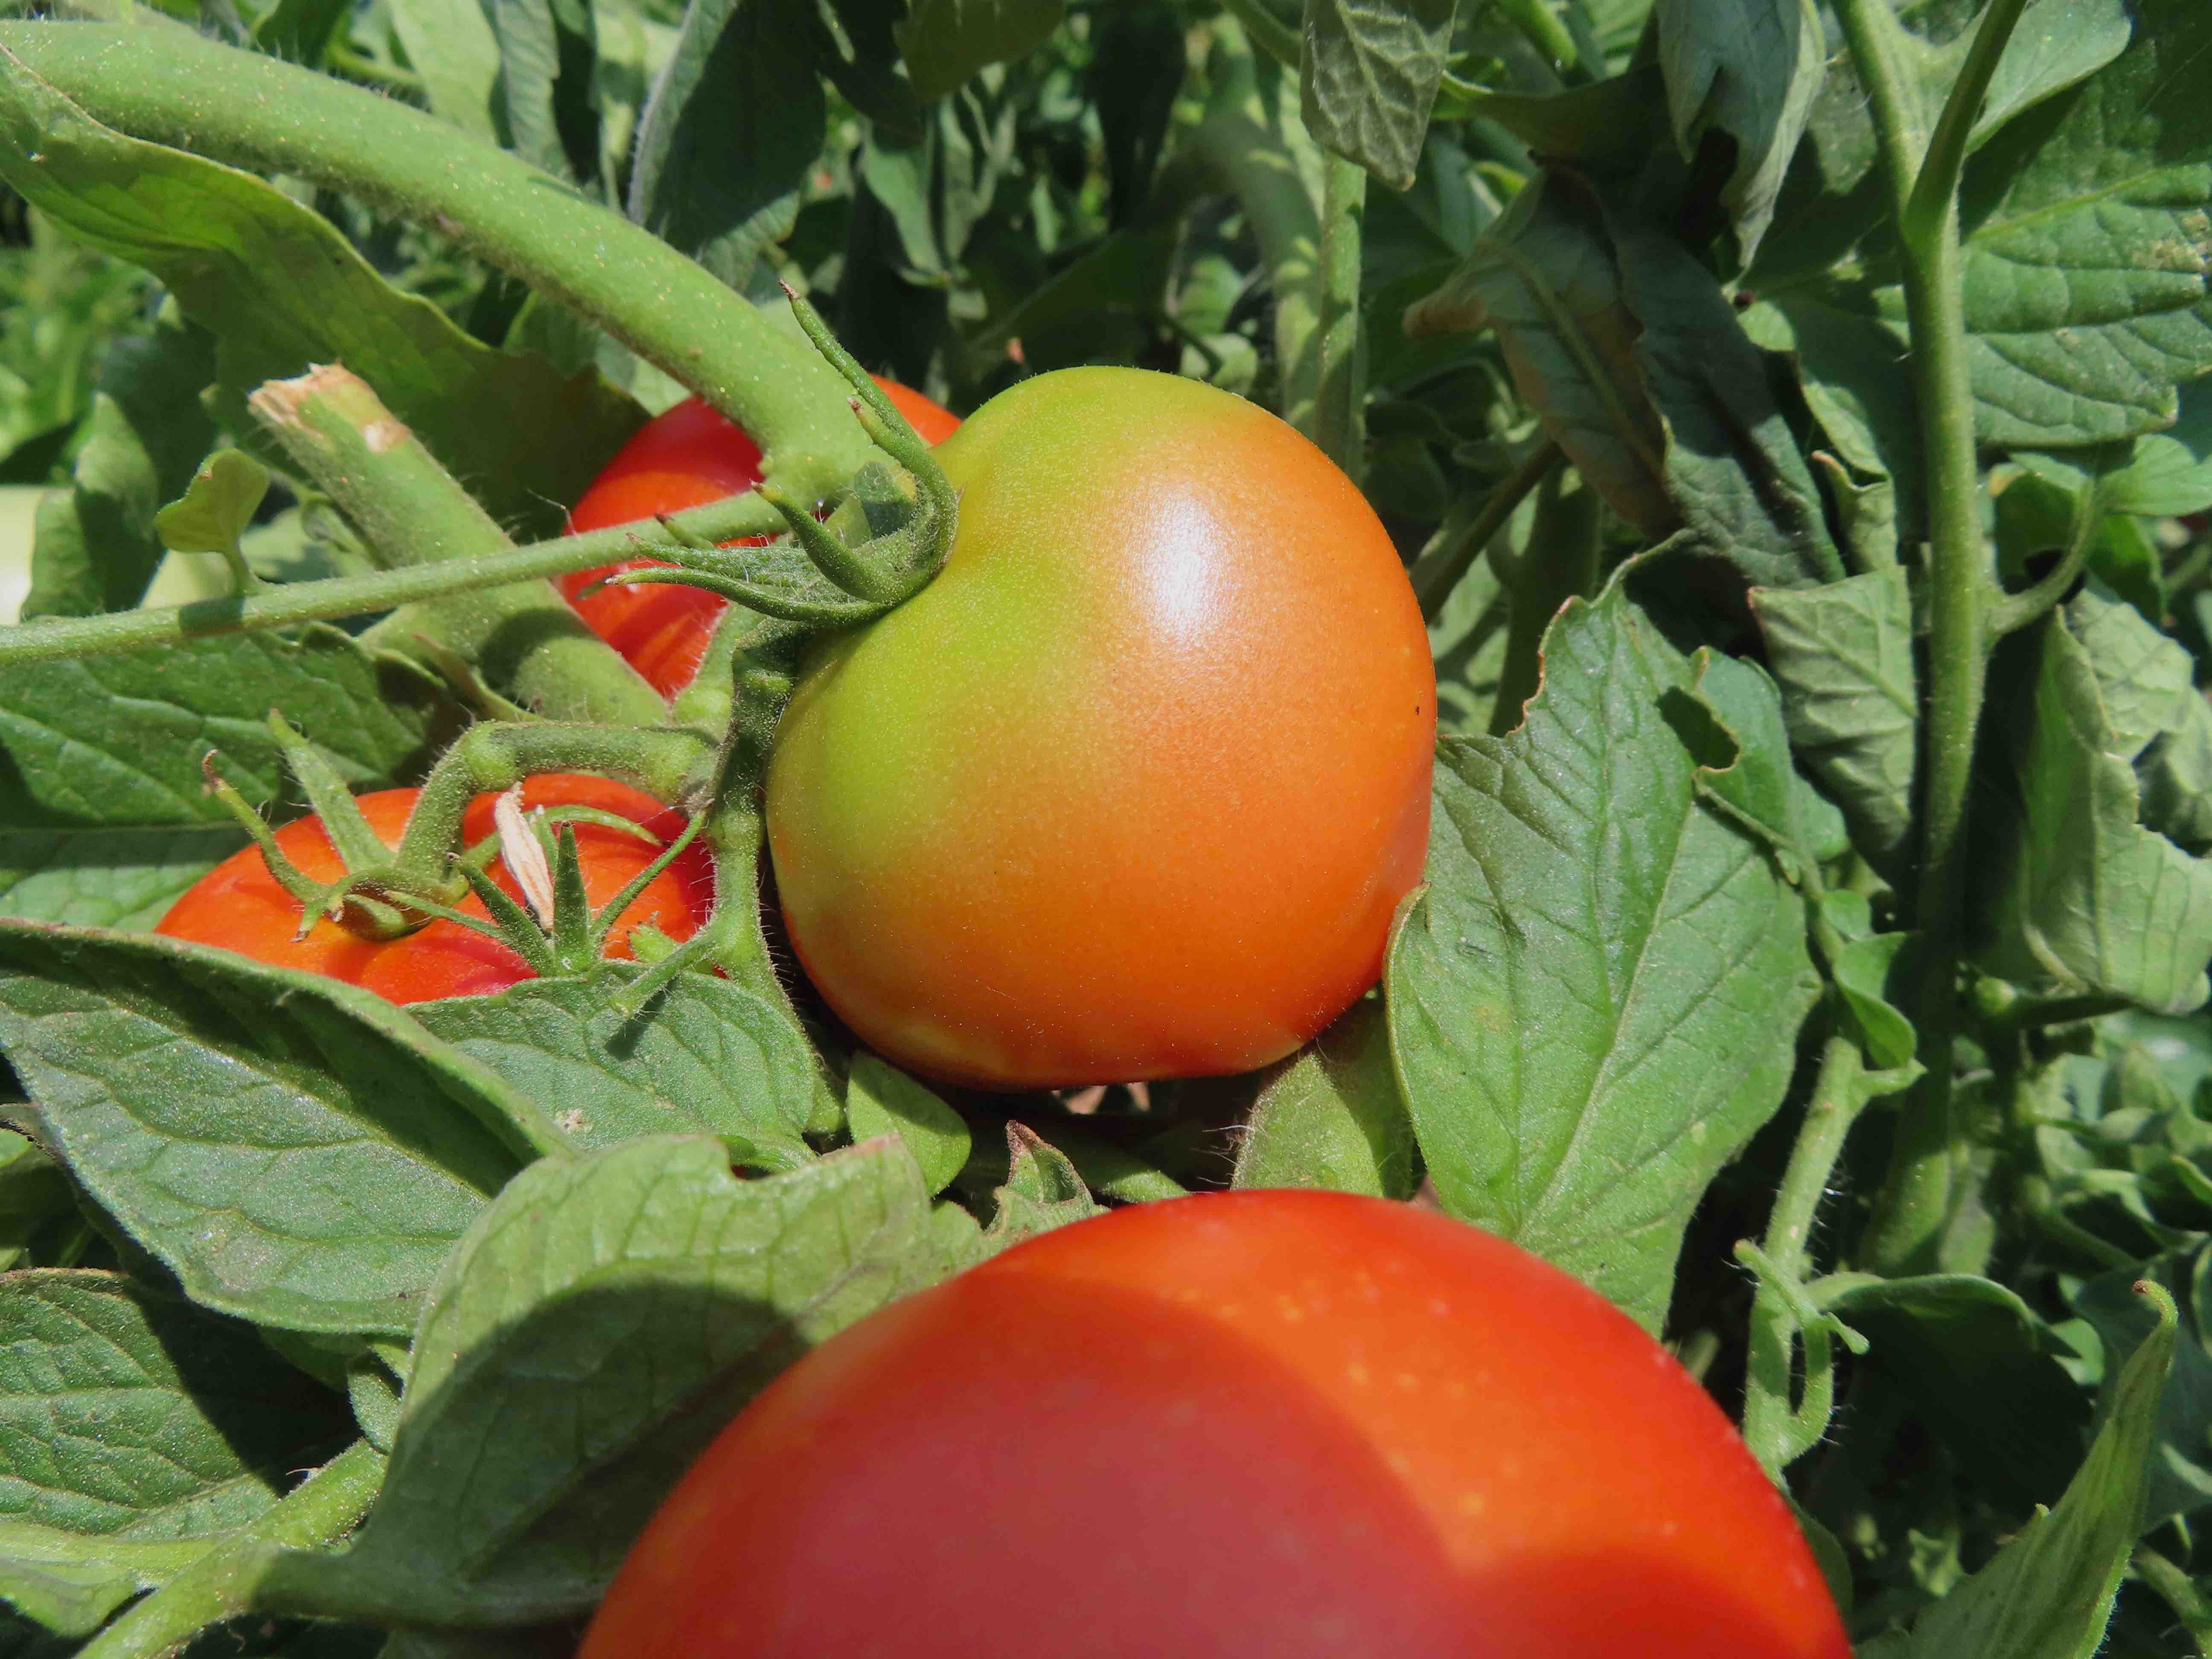tomato: (691, 329, 1435, 1089)
